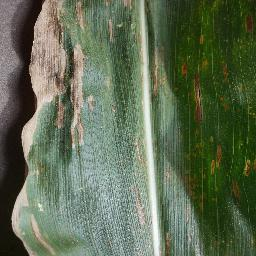Gray_Leaf_Spot: (28, 40, 67, 100), (29, 0, 65, 41), (181, 170, 206, 211), (191, 72, 208, 123), (152, 45, 166, 99), (128, 188, 146, 226), (71, 40, 85, 84), (52, 95, 67, 134), (67, 83, 83, 115), (229, 173, 242, 207), (28, 210, 44, 237), (73, 0, 87, 30), (16, 176, 28, 209), (242, 11, 256, 39), (9, 207, 24, 233), (220, 57, 233, 87), (70, 115, 81, 150), (19, 115, 35, 139), (20, 138, 33, 166), (130, 139, 144, 165), (189, 134, 203, 160), (104, 17, 115, 47), (246, 82, 255, 118), (40, 236, 57, 255), (163, 230, 174, 256), (211, 139, 218, 179), (195, 30, 210, 47), (244, 156, 256, 177), (162, 159, 169, 191), (210, 236, 224, 252), (133, 33, 143, 54), (236, 36, 252, 49), (180, 56, 188, 81), (220, 94, 230, 113), (19, 241, 33, 254), (39, 159, 48, 178), (200, 0, 218, 9), (225, 236, 235, 252), (107, 100, 117, 116), (121, 0, 135, 11), (33, 99, 42, 116), (87, 94, 95, 113), (248, 238, 256, 256), (237, 83, 247, 96), (203, 57, 210, 73), (102, 0, 112, 11), (32, 202, 44, 211), (103, 77, 112, 88), (128, 21, 137, 32), (118, 18, 124, 34), (228, 47, 237, 57)
